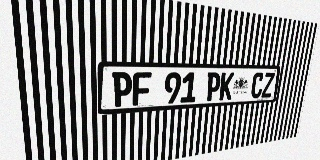1: (180, 72, 197, 103)
9: (164, 72, 182, 104)
C: (250, 73, 264, 98)
F: (132, 72, 151, 106)
K: (219, 72, 234, 100)
P: (112, 72, 132, 107), (205, 72, 221, 101)
Z: (261, 73, 275, 98)
